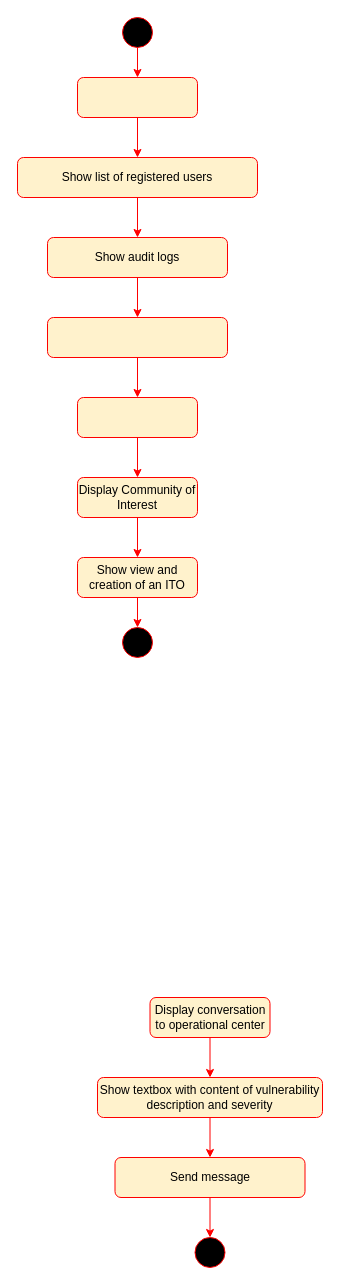
The diagram is 340 pixels wide and 1285 high, and some of its shapes have lost their labels. Here are the shapes that lost their labels. From the top down, the centre of each, then its label:
(x=137, y=97): Log in into the app as admin
(x=137, y=337): Show user creation, edition and overview
(x=137, y=417): Logout and log in into the app as user
